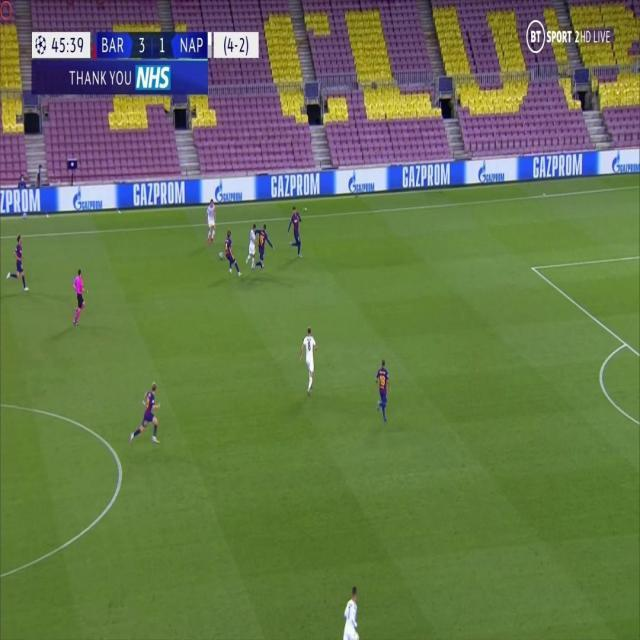ball: (218, 249, 223, 259)
player: (129, 380, 163, 448), (300, 323, 319, 393), (10, 229, 29, 291), (374, 356, 391, 423), (341, 582, 360, 640), (287, 202, 304, 257), (223, 229, 241, 277), (257, 223, 274, 269), (244, 222, 260, 270), (204, 195, 218, 244)
referee: (71, 266, 88, 327)
